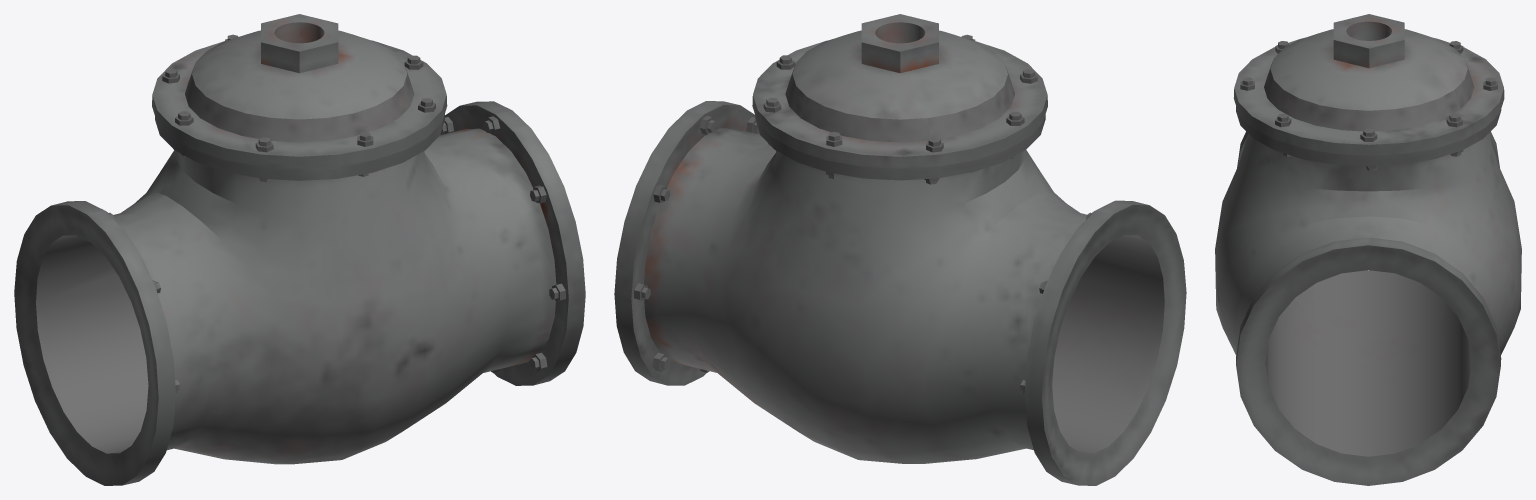
Rendered from BaseValvula.glb.
3 views of the same model, side by side, from view 1: azimuth 30°, elevation 25°; view 2: azimuth 150°, elevation 25°; view 3: azimuth 270°, elevation 25° (orthographic). The views are drawn at different scales.
Visible parts, largest first — view 1: Pipe_Fitting_3Way_Round_ModularPipes_Large_0; view 2: Pipe_Fitting_3Way_Round_ModularPipes_Large_0; view 3: Pipe_Fitting_3Way_Round_ModularPipes_Large_0.
Boxes of the visible parts, bbox=[...] form: Pipe_Fitting_3Way_Round_ModularPipes_Large_0: bbox=[14, 14, 585, 485]; Pipe_Fitting_3Way_Round_ModularPipes_Large_0: bbox=[614, 14, 1186, 485]; Pipe_Fitting_3Way_Round_ModularPipes_Large_0: bbox=[1215, 14, 1521, 485].
Bounding box in the file's own units: 4.02 × 3.73 × 2.72.
Materials: 1 (1 with a texture image).
